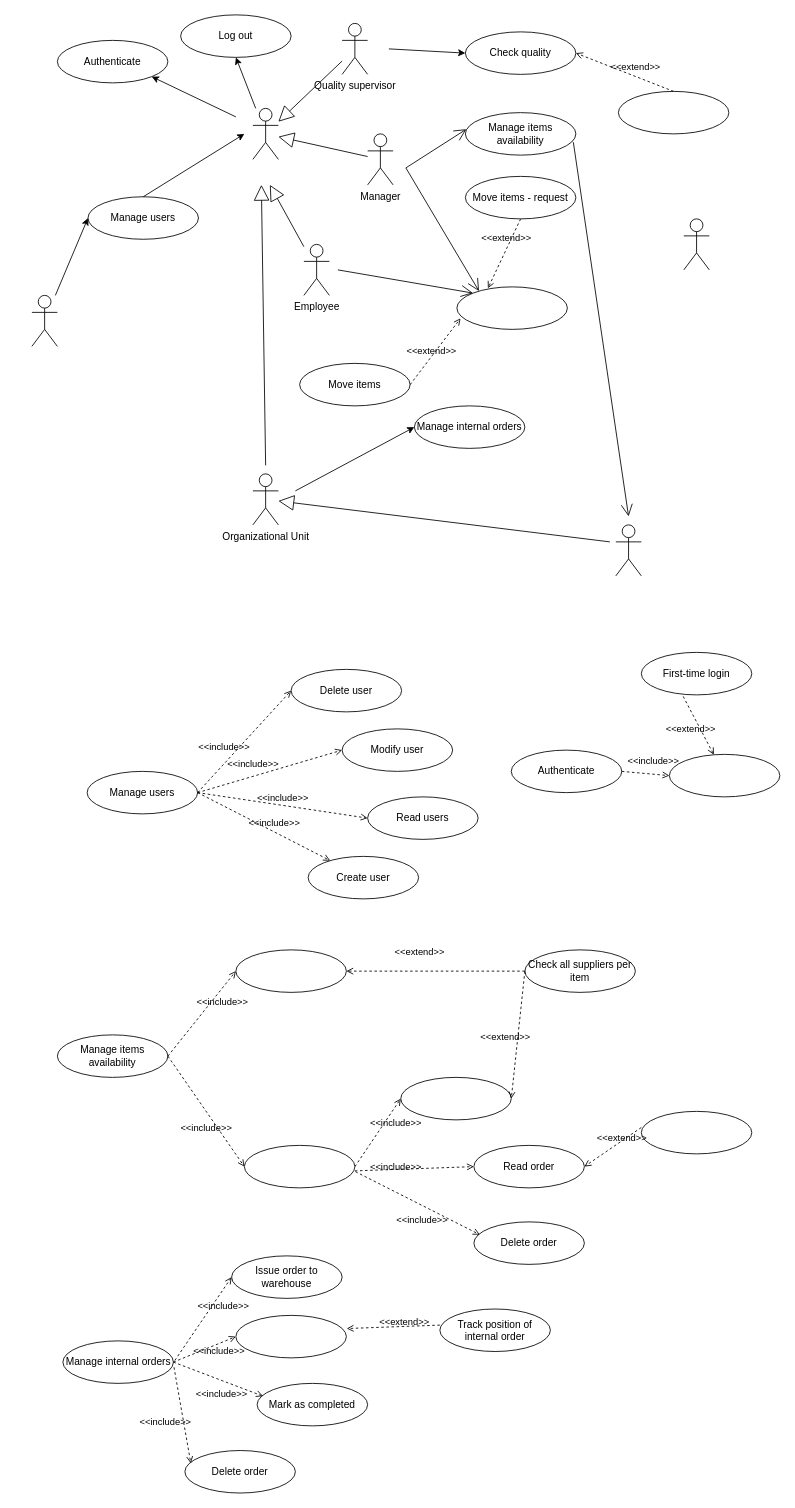
Some shapes in this 795 by 1508 pixel diagram are drawn without their labels. The centre of each missing label's shape, as x and y in pixels:
"Administrator" belongs at point 44,320.
"Check items availabilty" belongs at point 290,970.
"Email Service" belongs at point 696,244.
"Financial Unit" belongs at point 628,550.
"Issue order to supplier" belongs at point 455,1098.
"Manage orders" belongs at point 299,1166.
"Read internal orders" belongs at point 290,1336.
"Read items" belongs at point 511,307.
"Regular login" belongs at point 724,775.
"Send back to supplier" belongs at point 673,112.
"Track position" belongs at point 696,1132.
"User" belongs at point 265,133.
